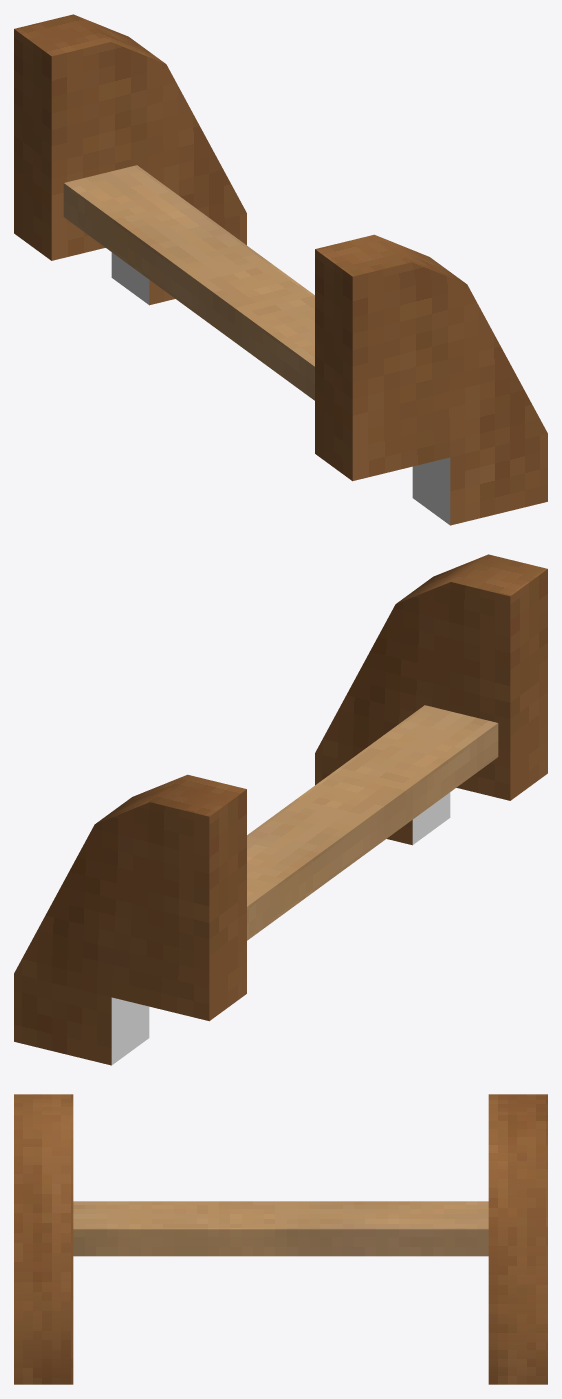
Rendered from Docks_Ladder_Top_1x1.glb.
The picture shows the model from 3 angles, top to bottom: view 1: azimuth 30°, elevation 25°; view 2: azimuth 150°, elevation 25°; view 3: azimuth 270°, elevation 25°; orthographic projection. The views are drawn at different scales.
Visible parts, largest first — view 1: Docks_Ladder_Top_1x1; view 2: Docks_Ladder_Top_1x1; view 3: Docks_Ladder_Top_1x1.
Boxes of the visible parts, left/top/right/bottom form: Docks_Ladder_Top_1x1: left=14, top=14, right=547, bottom=525; Docks_Ladder_Top_1x1: left=14, top=554, right=547, bottom=1065; Docks_Ladder_Top_1x1: left=14, top=1094, right=547, bottom=1384.
Size of what is drawn, in the model's own units: 18.75 by 25 by 56.25.
Materials: 3 (2 with a texture image).
